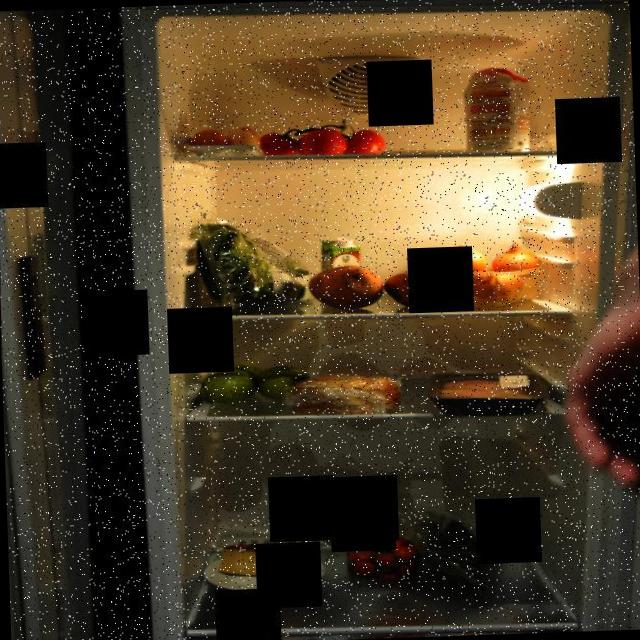Carne pollo: (422, 368, 550, 420)
Cebolla: (423, 238, 545, 310)
Huevos: (185, 124, 261, 158)
Manzana: (197, 356, 314, 406)
Queso: (216, 537, 304, 582)
Tomate: (248, 111, 388, 160)
